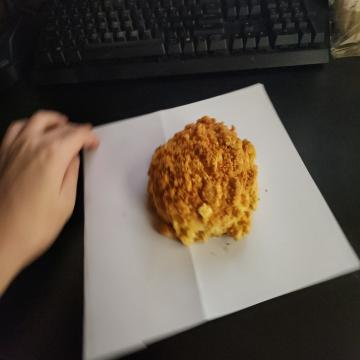soboru_bread: (148, 116, 259, 241)
